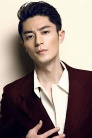male: (16, 8, 73, 84)
